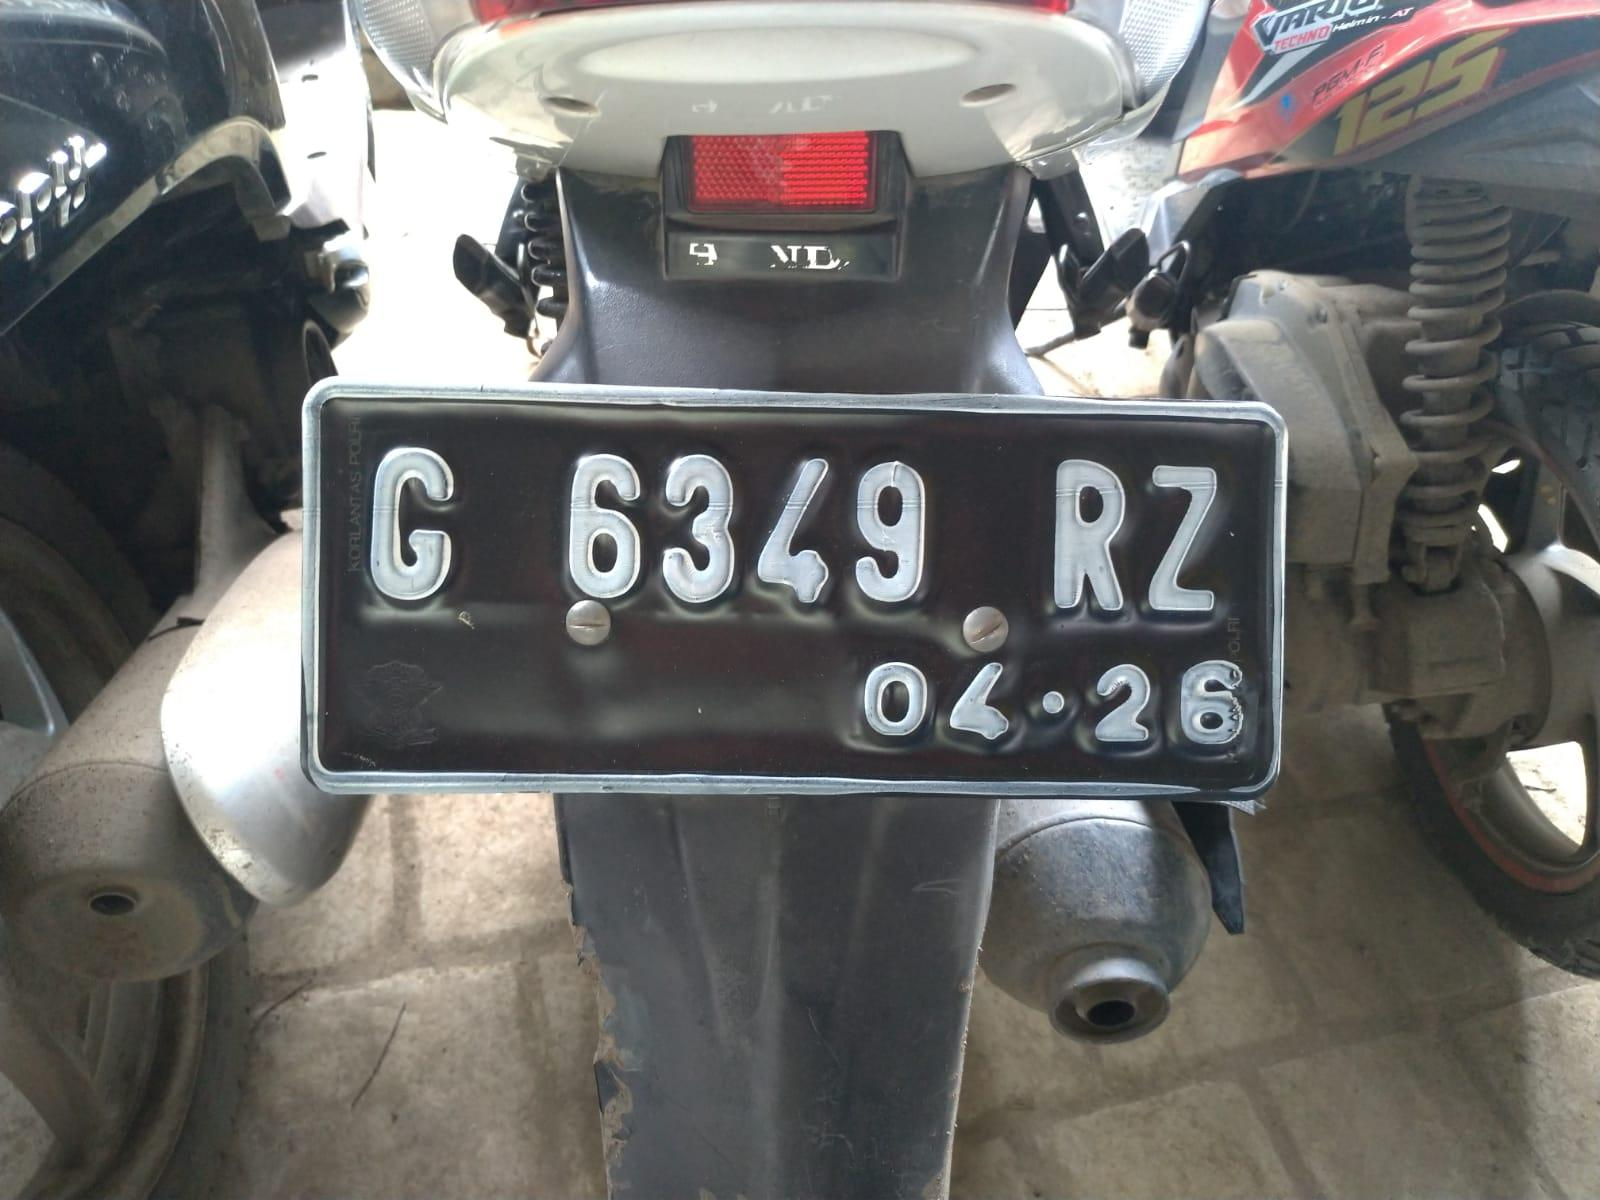plat: (304, 381, 1288, 800)
